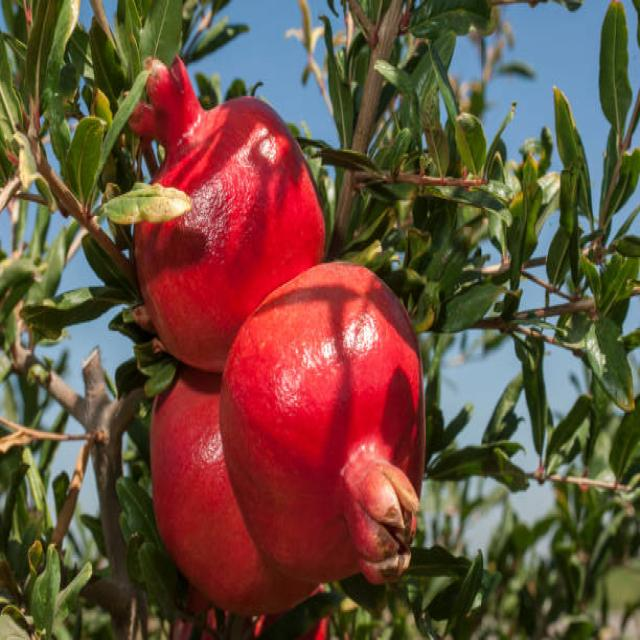Ripe: (217, 254, 433, 588), (132, 47, 329, 375)
